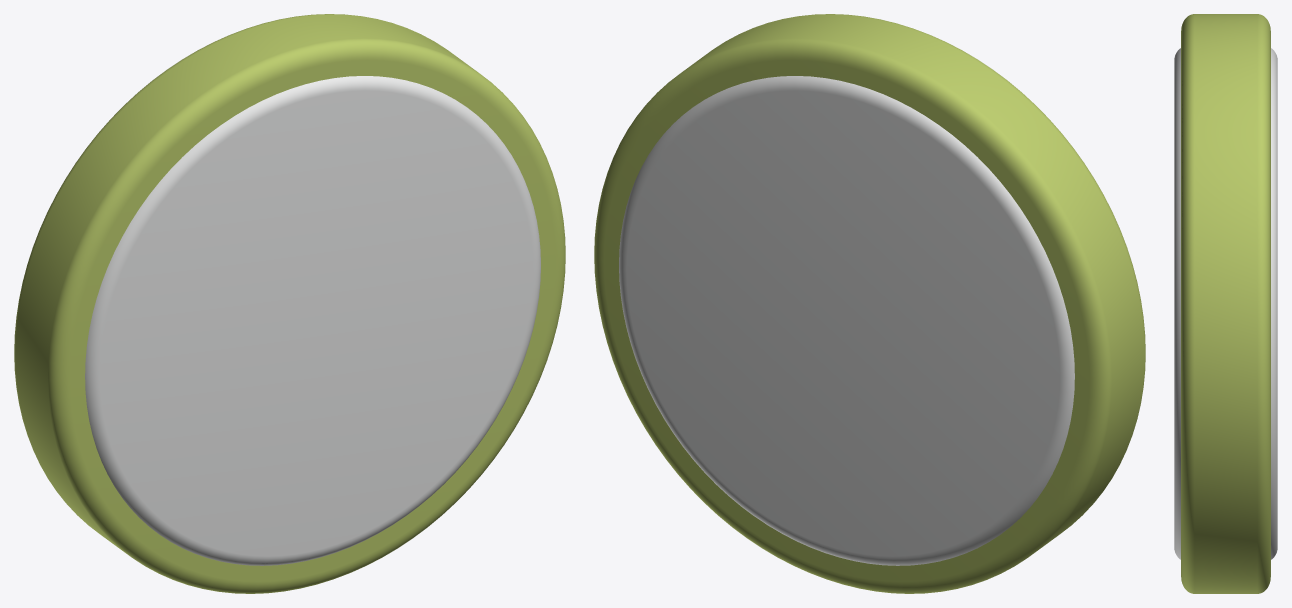
File: BigBee.gltf
The picture shows the model from 3 angles, left to right: view 1: azimuth 30°, elevation 25°; view 2: azimuth 150°, elevation 25°; view 3: azimuth 270°, elevation 25°; orthographic projection. The views are drawn at different scales.
Parts seen in each view (by area): view 1: Cylinder_2, Cylinder; view 2: Cylinder_2, Cylinder; view 3: Cylinder, Cylinder_2.
Part boxes in pixels (<box>): Cylinder_2: <box>85,76,540,565</box>; Cylinder: <box>14,14,565,593</box>; Cylinder_2: <box>619,76,1074,565</box>; Cylinder: <box>594,14,1145,593</box>; Cylinder: <box>1181,14,1270,593</box>; Cylinder_2: <box>1174,48,1277,559</box>.
Bounding box in the file's own units: 11.4 × 11.39 × 2.03.
